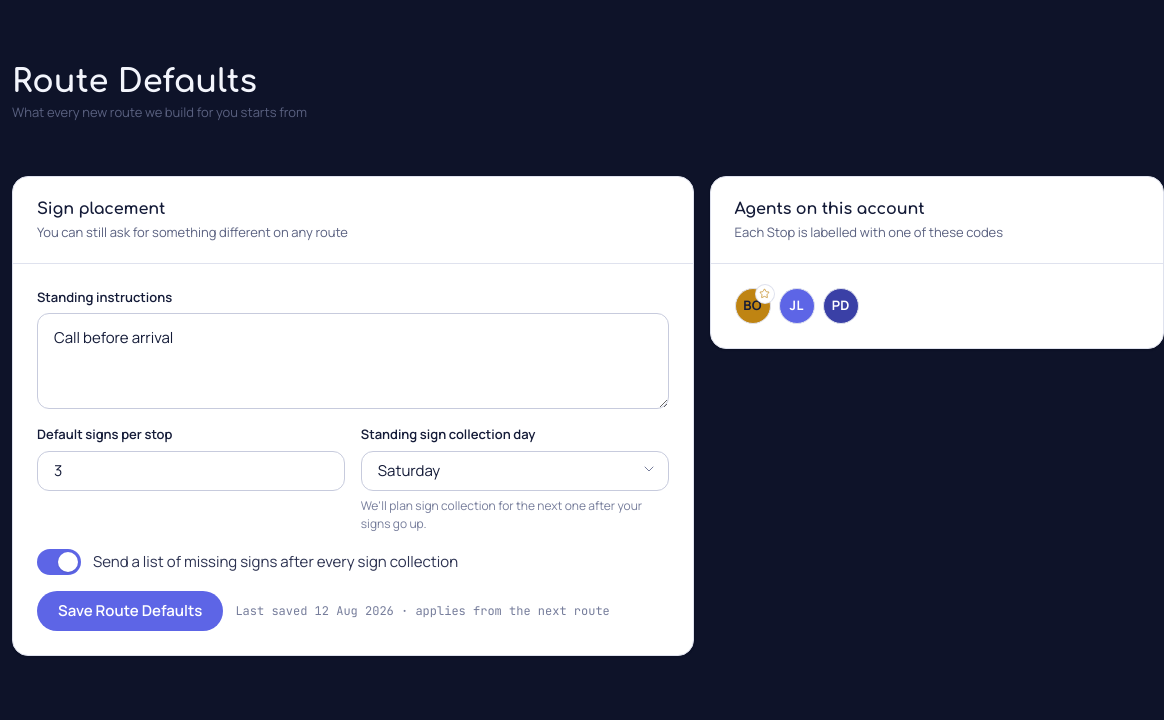
Customer Route Defaults page › says it could not save the Route Defaults when saving fails
Check: the text box showing "Call before arrival" is shown, box [37,314,669,410]
Click the button "Save Route Defaults" at (130,611), box [37,591,223,631]
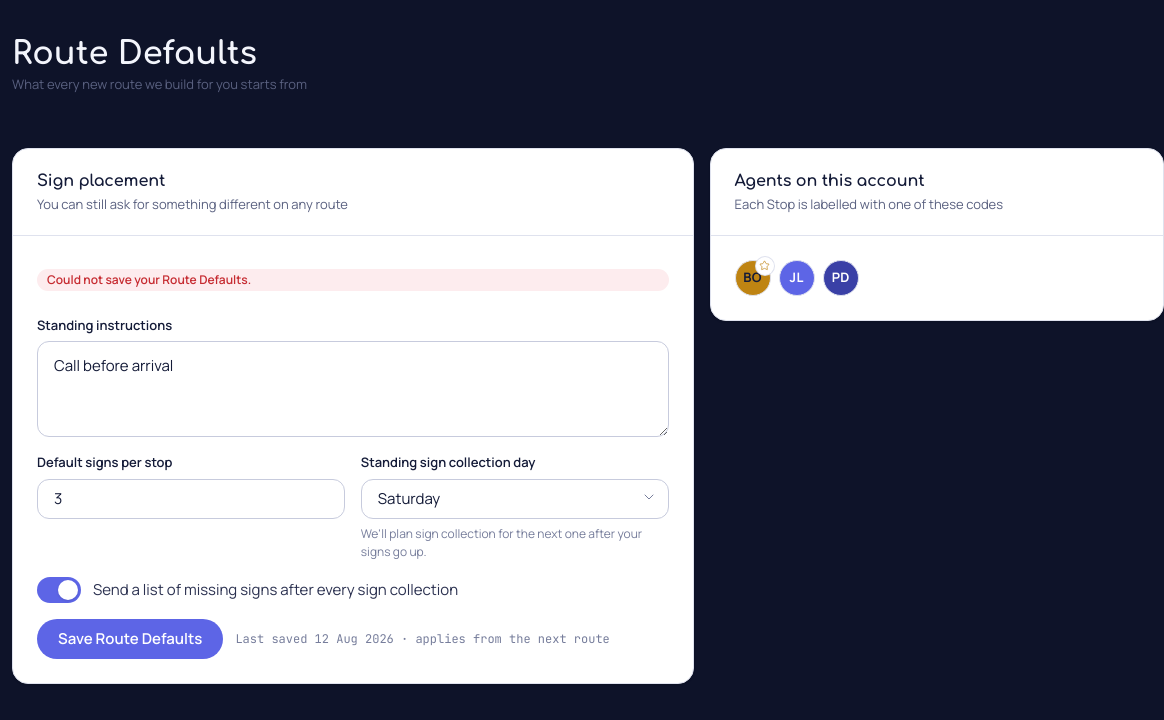
Check: the text "Could not save your Route Defaults." is shown, box [37,269,669,291]
